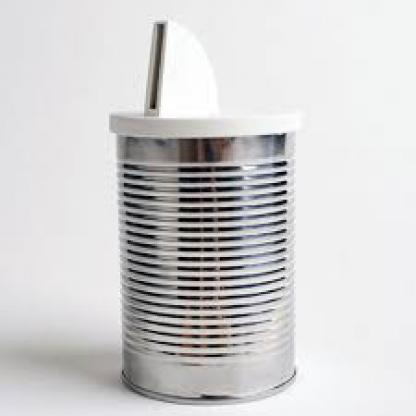METAL: (118, 122, 294, 401)
